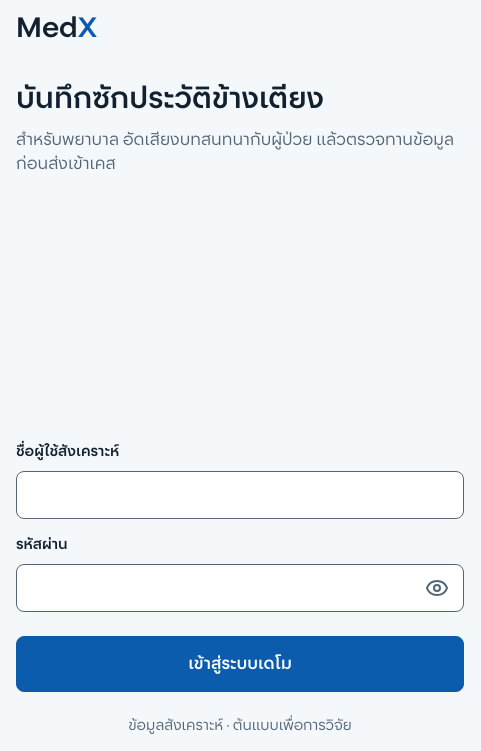
login › network → บริการเข้าสู่ระบบไม่พร้อมใช้งาน โปรดลองอีกครั้ง
This screenshot has width=481, height=751.
Type "nurse1" into the field labelled "ชื่อผู้ใช้สังเคราะห์" at (240, 495), box [33,472,447,518]
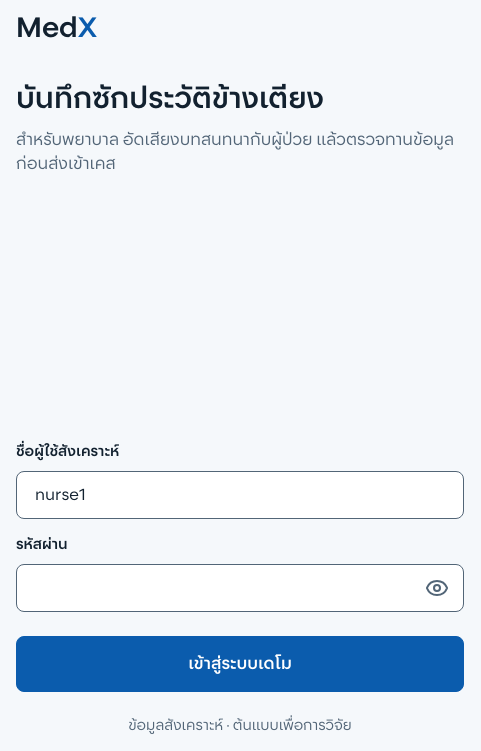
Type "nurse1-dev" into the password field labelled "รหัสผ่าน" at (220, 588), box [33,565,407,611]
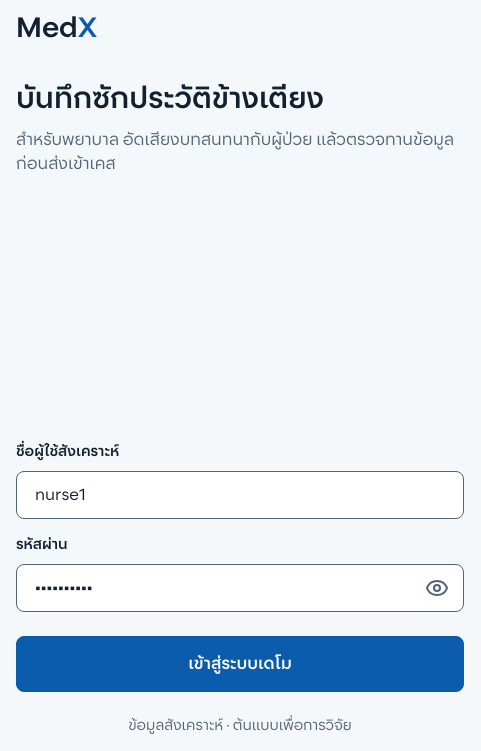
Click the button "เข้าสู่ระบบเดโม" at (240, 664), box [16,636,464,692]
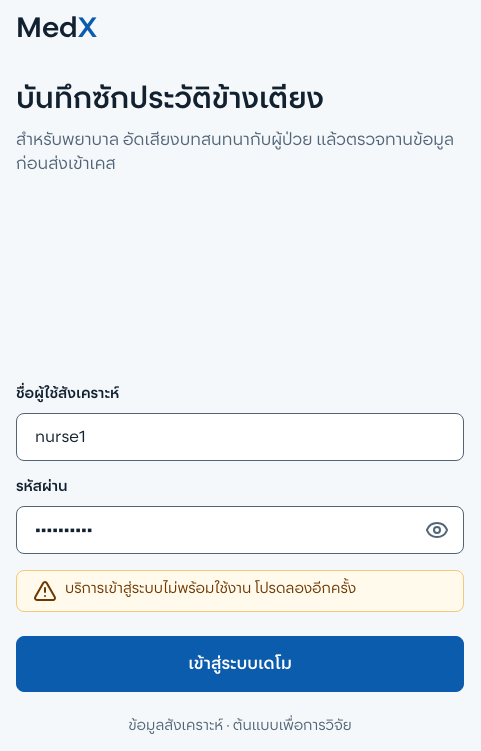
Result: the message reads "บริการเข้าสู่ระบบไม่พร้อมใช้งาน โปรดลองอีกครั้ง" at [65,582,356,596]
